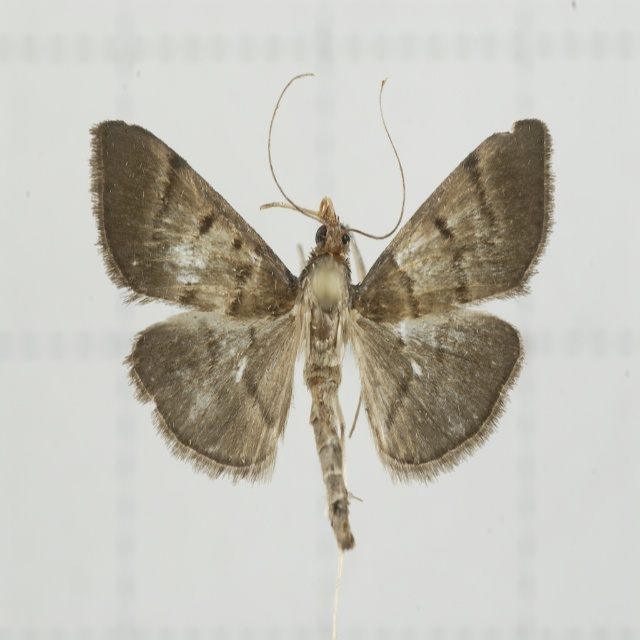Butterfly: (78, 75, 548, 565)
